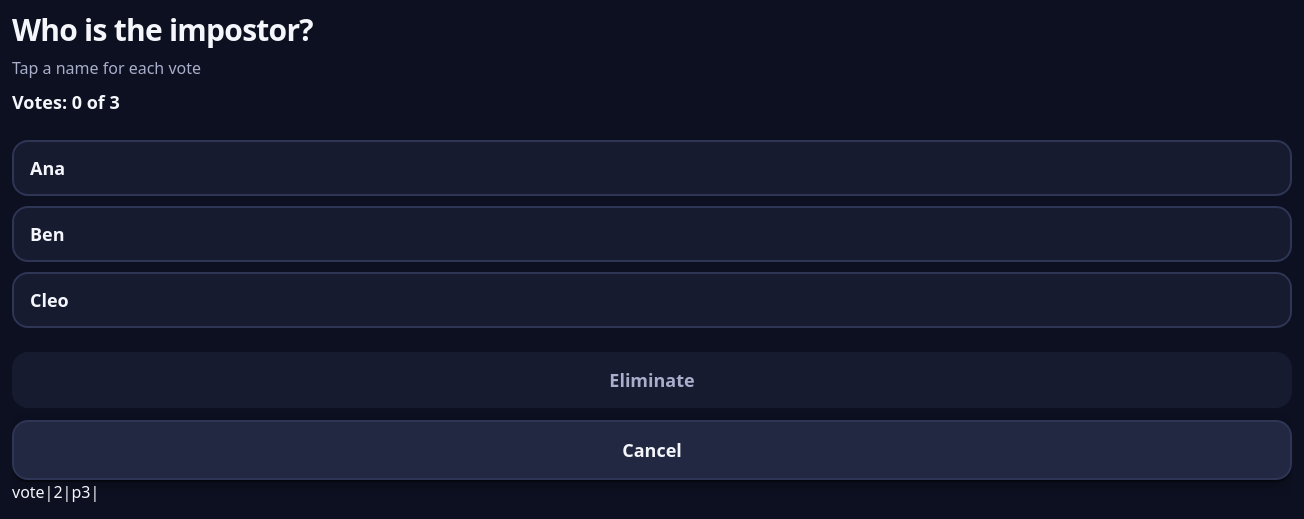
Scenario: VoteScreen tally › removes votes with the minus button without adding one
This screenshot has width=1304, height=519.
Click the button "Ana".
click(48, 168)  # box [12,140,1292,196]
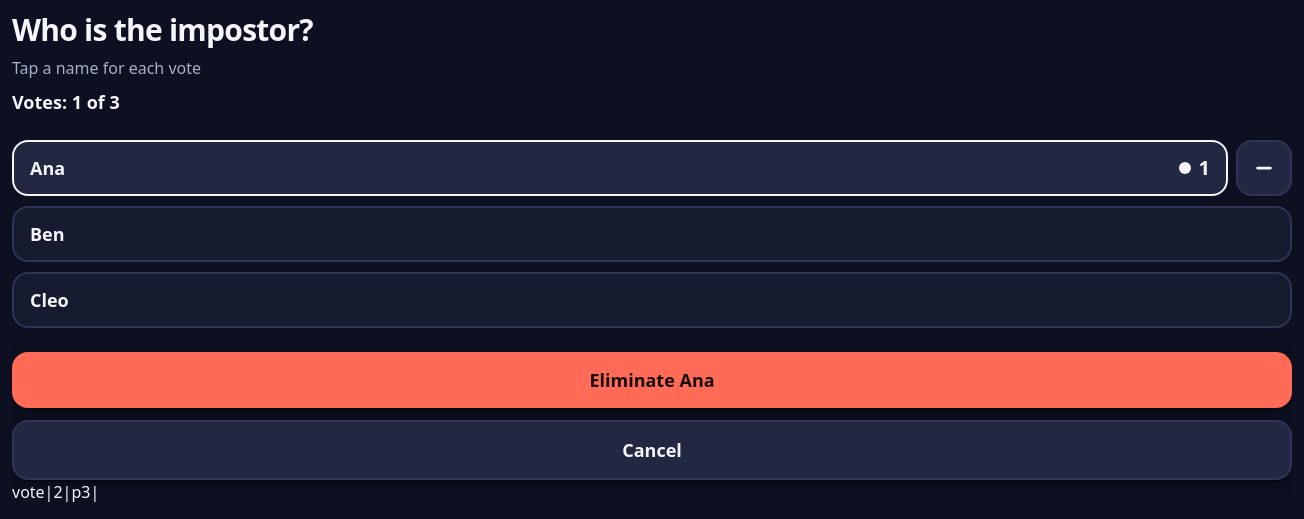
Click the button "Ana 1".
click(48, 168)  # box [12,140,1228,196]
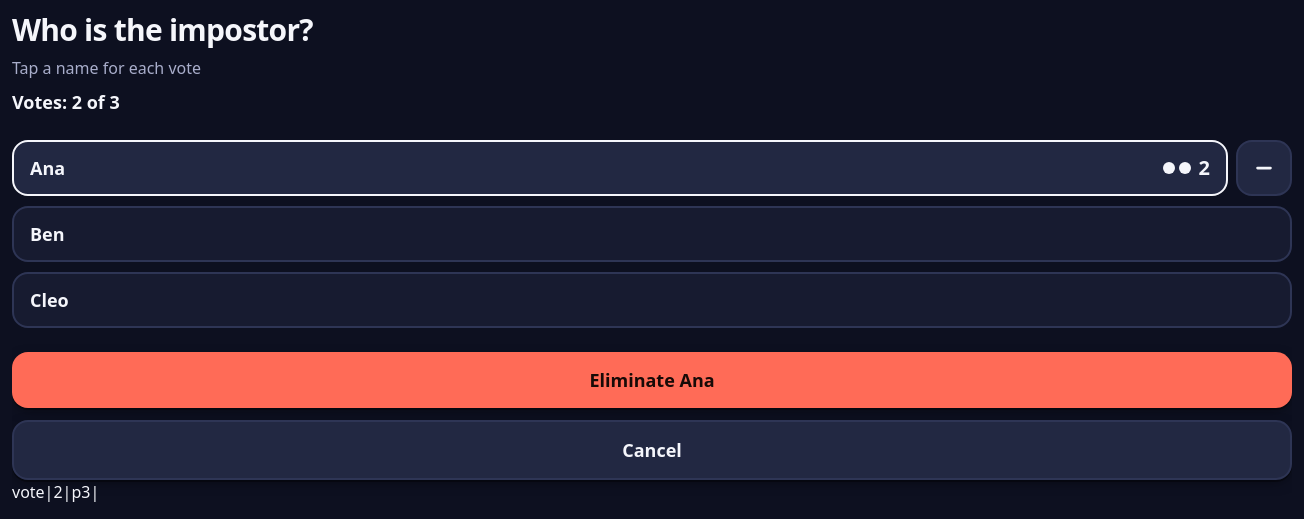
Click the button named "Remove a vote from Ana".
click(1264, 168)  # box [1236,140,1292,196]
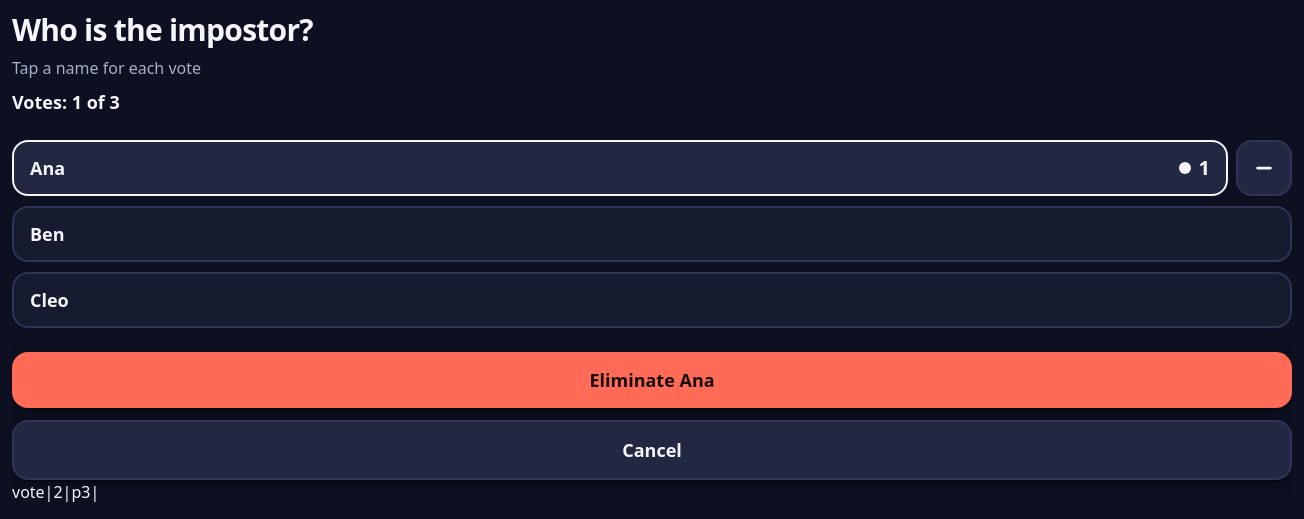
Expected: the text "Votes: 1 of 3" is shown, [12,90,120,114]
Click the button named "Remove a vote from Ana".
click(1264, 168)  # box [1236,140,1292,196]
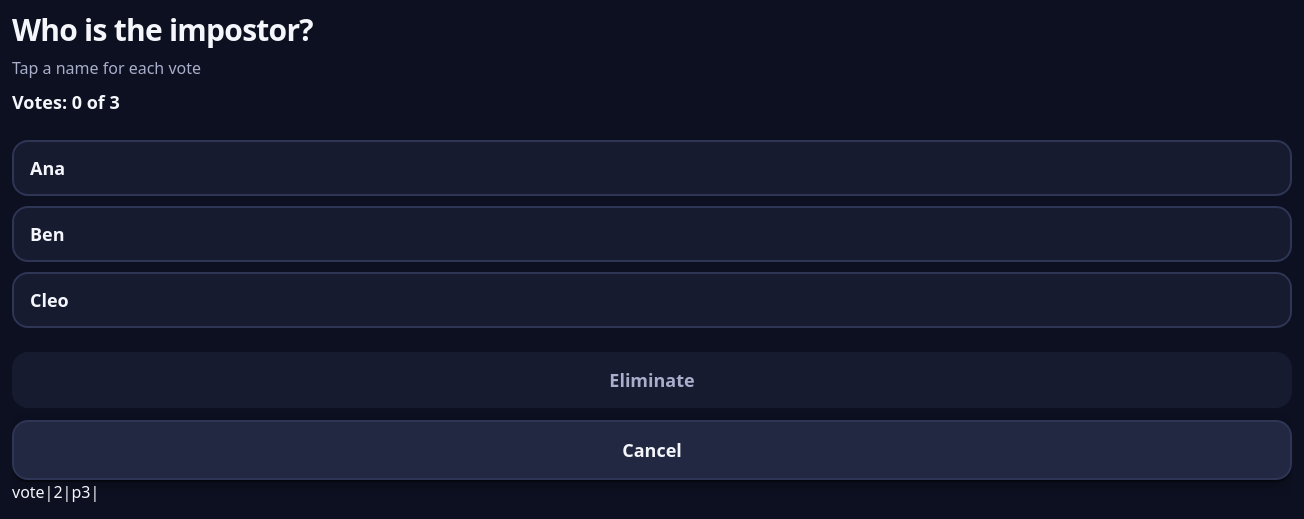
Expected: the text "Votes: 0 of 3" is shown, [12,90,120,114]
